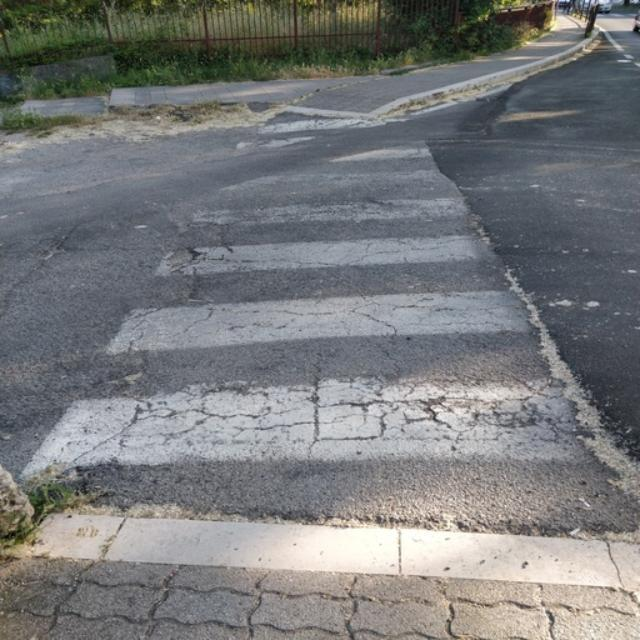sidewalk: (0, 103, 640, 587)
